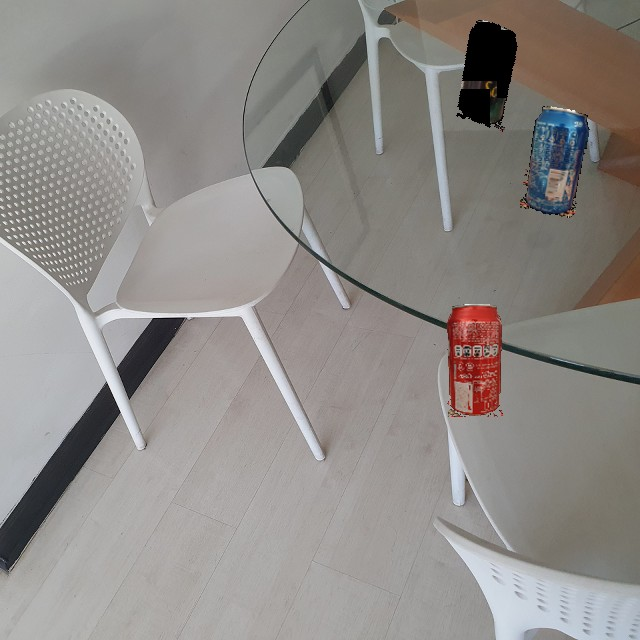coca cola: (447, 304, 503, 417)
pepsi: (520, 105, 591, 218)
schweppes: (431, 12, 545, 138)
